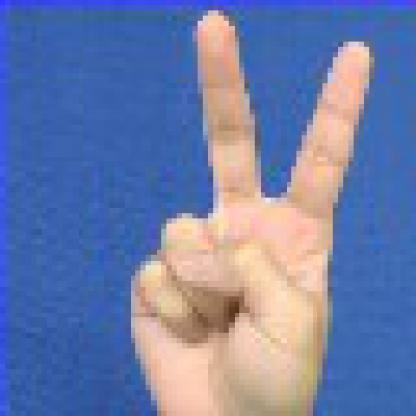two: (120, 0, 380, 411)
